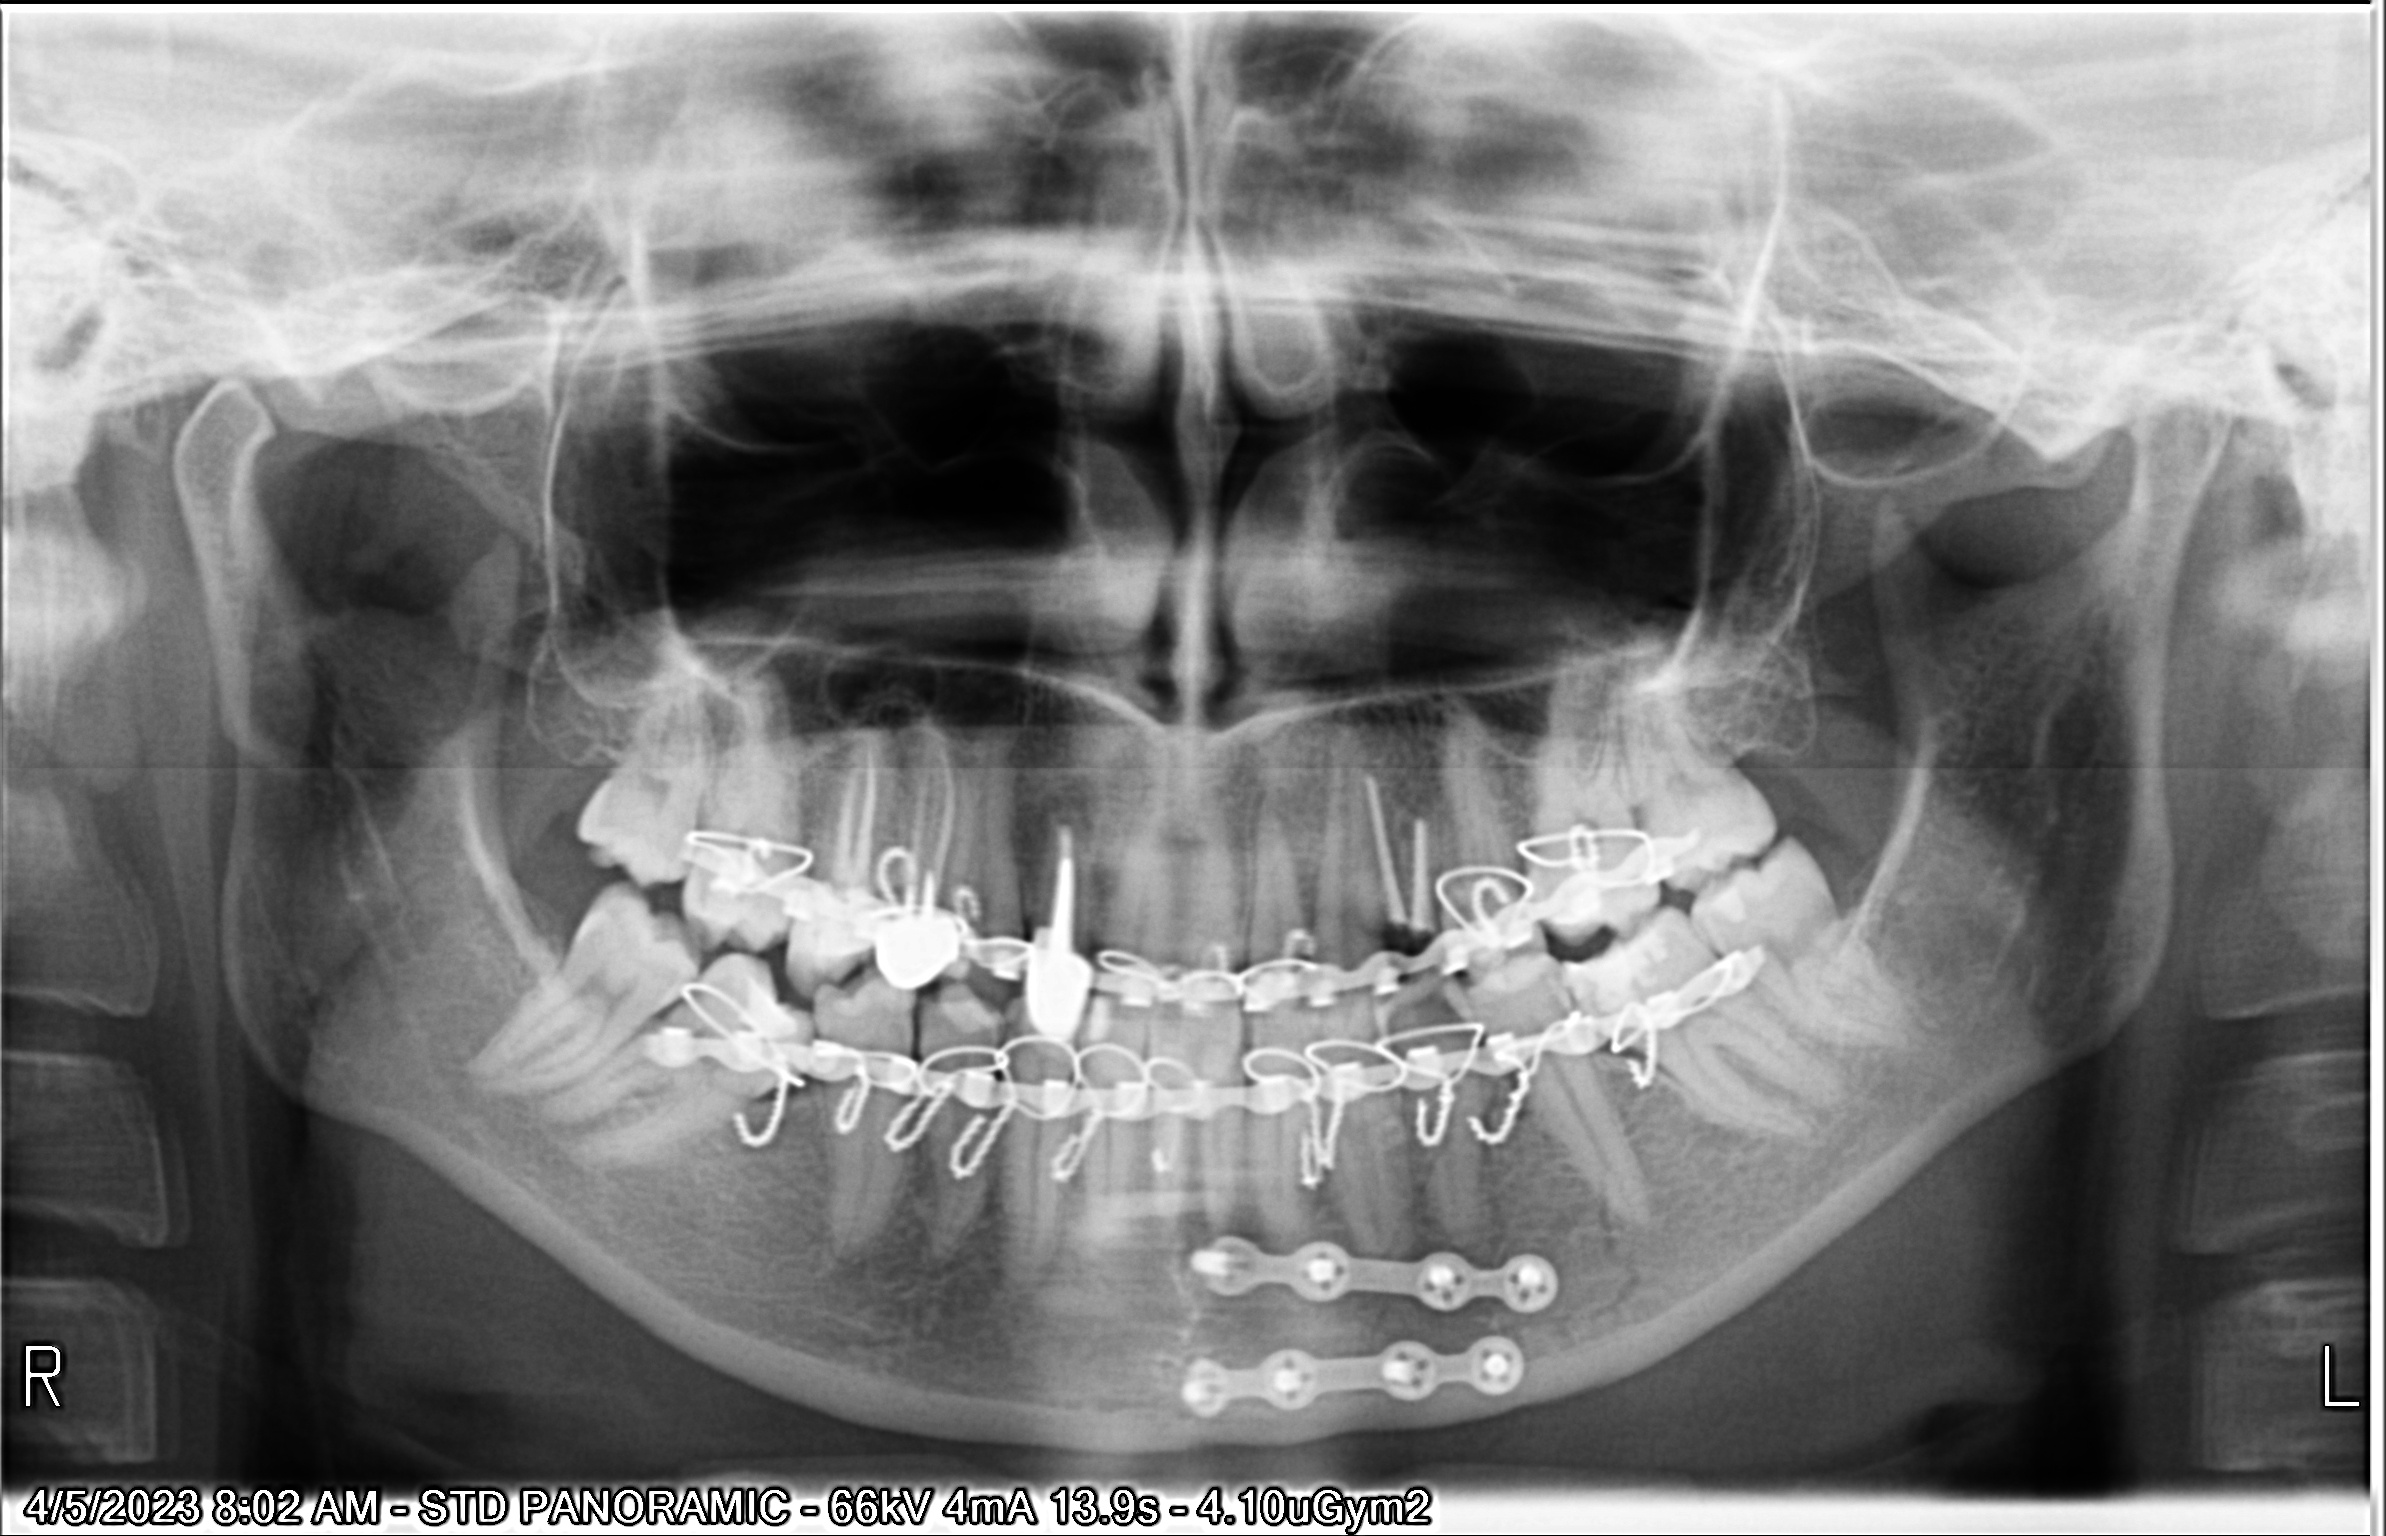END: (1362, 779, 1405, 934), (1398, 811, 1443, 936), (925, 751, 960, 901), (1047, 830, 1089, 953), (897, 748, 930, 903), (854, 743, 878, 896), (833, 753, 852, 887)
OBT: (1577, 934, 1657, 1007), (1703, 887, 1750, 934)
ORD: (636, 781, 1645, 1023), (626, 952, 1805, 1136)
PRR: (1023, 932, 1108, 1045), (883, 908, 960, 1000)
ROT: (1362, 772, 1440, 952)
SRD: (1183, 1211, 1581, 1310), (1163, 1338, 1525, 1411)
